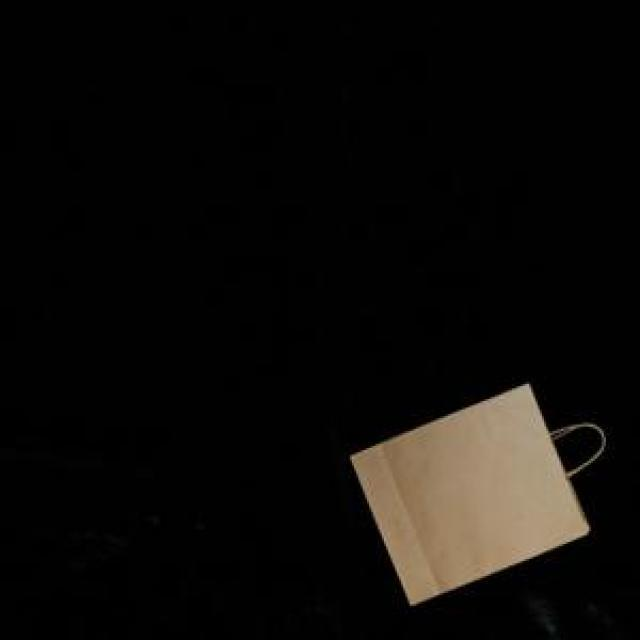paper: (346, 380, 585, 600)
